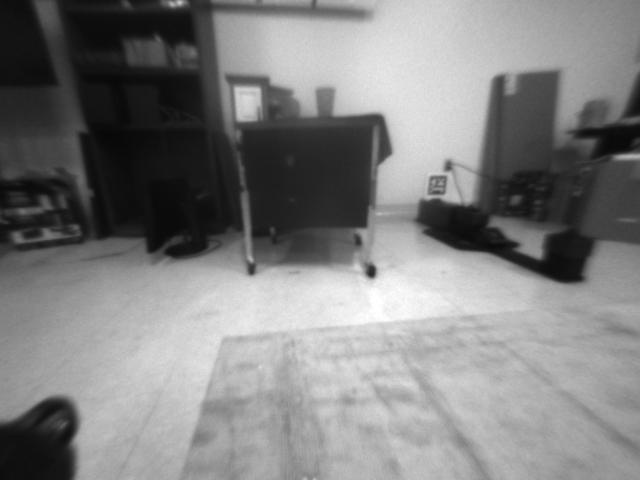coffee_cup: (314, 86, 337, 116)
